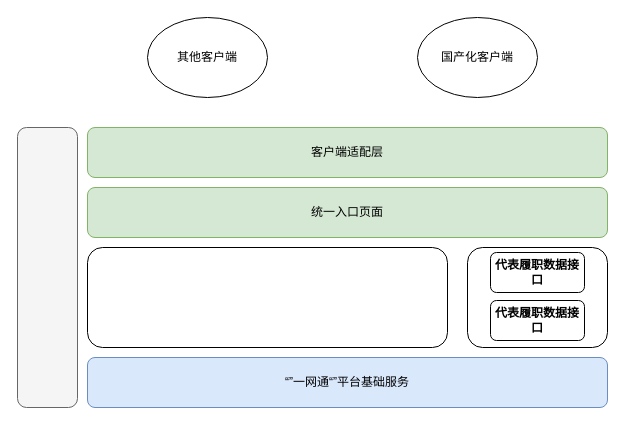
Image size: 625x425. Some labels were removed from this diagram. Here are the shapes that lost their labels. From the top down, the centre of each, then its label:
At (47,267): "统一认证".
At (267,297): "业务系统".
